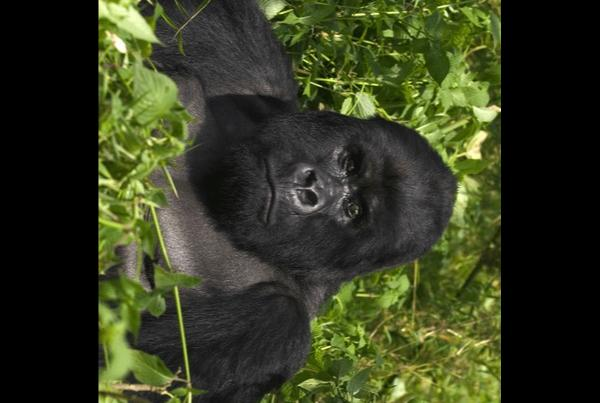goriile_montagne: (140, 0, 450, 403)
